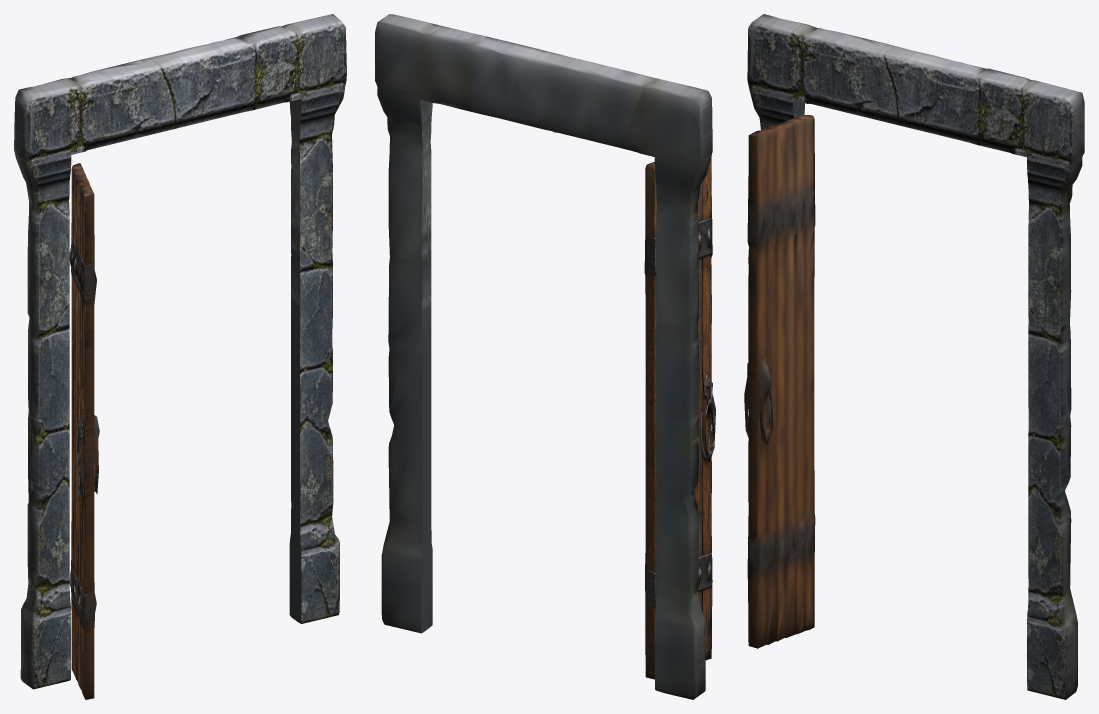
Rendered from door.glb.
3 renders of one model, left to right at view 1: azimuth 30°, elevation 25°; view 2: azimuth 150°, elevation 25°; view 3: azimuth 330°, elevation 25°, orthographic.
Parts seen in each view (by area): view 1: door_frame, door_leaf; view 2: door_frame, door_leaf; view 3: door_frame, door_leaf.
Boxes of the visible parts, x1,y1,x2,y2 form: door_frame: (14, 14, 346, 689); door_leaf: (69, 163, 99, 699); door_frame: (375, 14, 712, 699); door_leaf: (644, 156, 715, 679); door_frame: (747, 14, 1084, 699); door_leaf: (744, 115, 815, 648).
Bounding box in the file's own units: 1 × 1.76 × 0.2257.
Materials: 2 (2 with a texture image).
